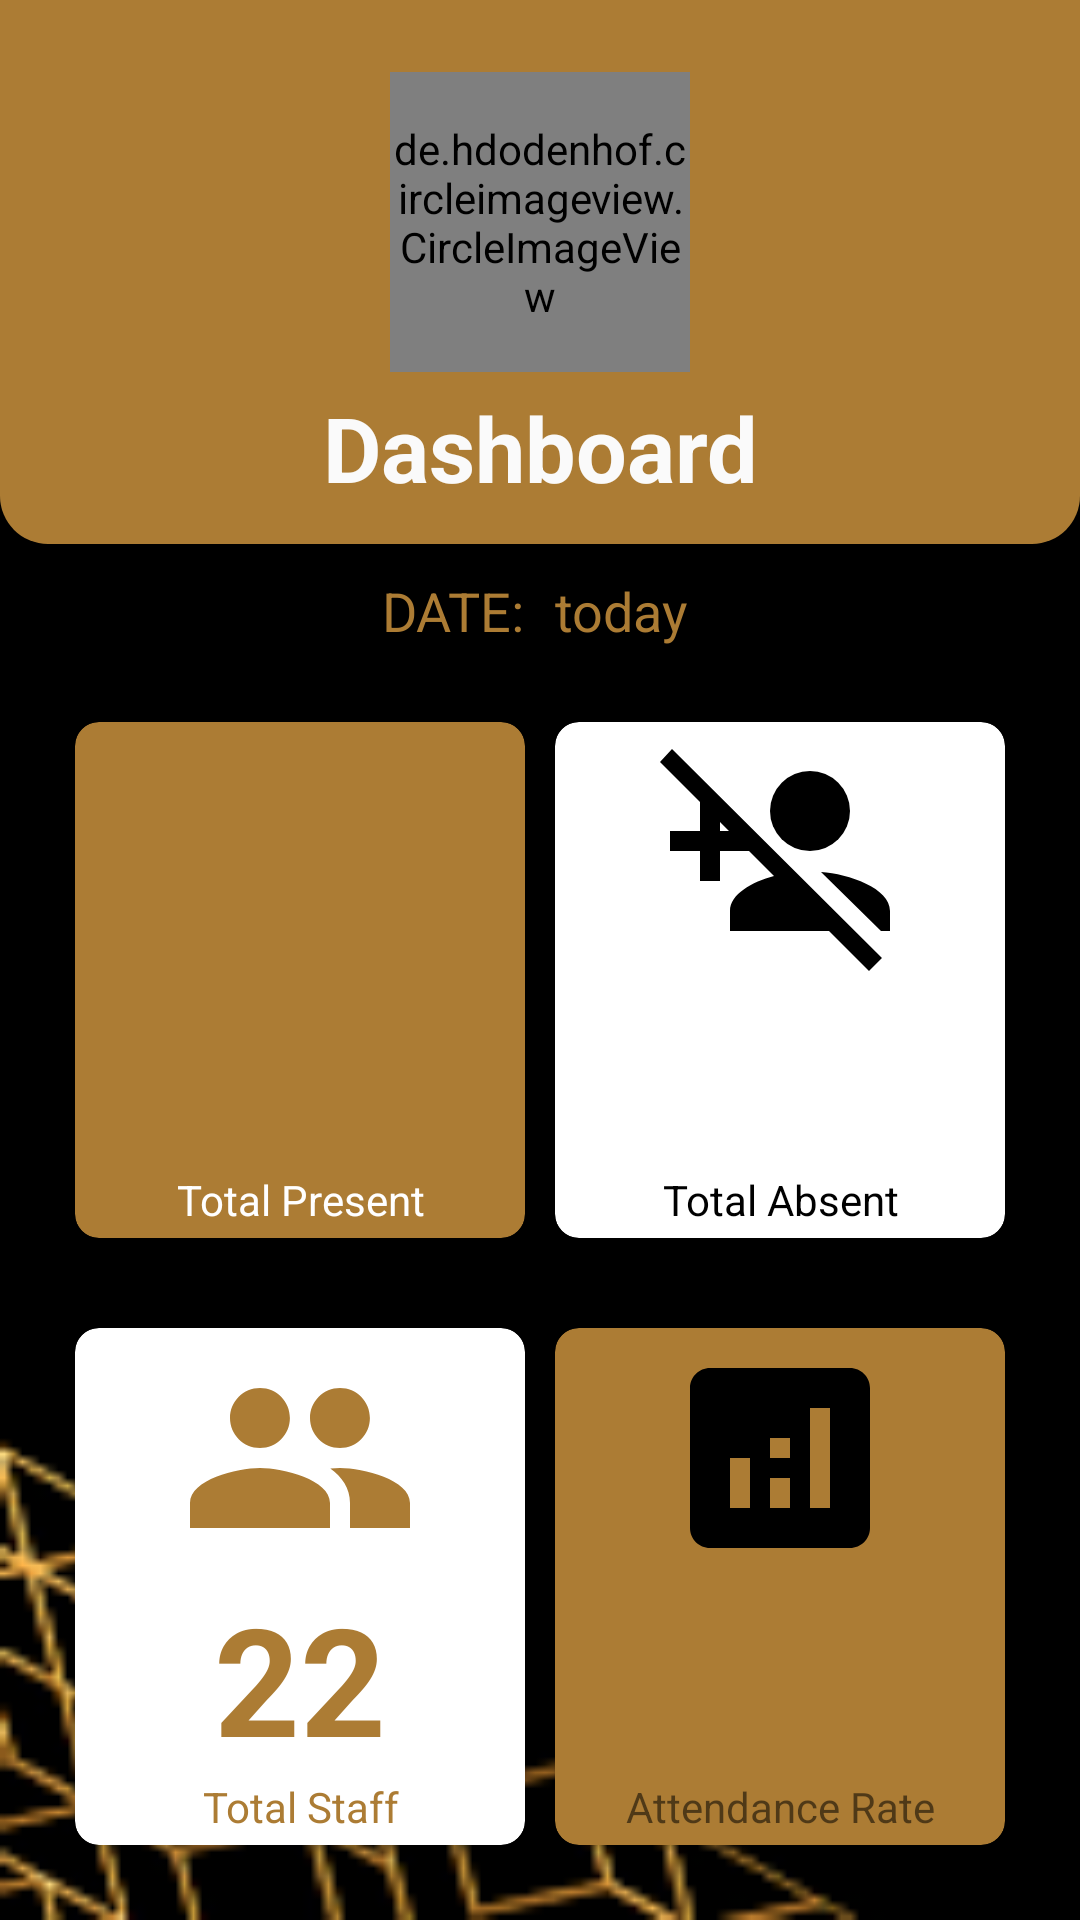

Point at icon controls on the screen. Image size 1080x1920, points as (x=x, y=y).
Attendance Rate: (x=780, y=1458)
Total Absent: (x=775, y=860)
Total Staff: (x=300, y=1458)
